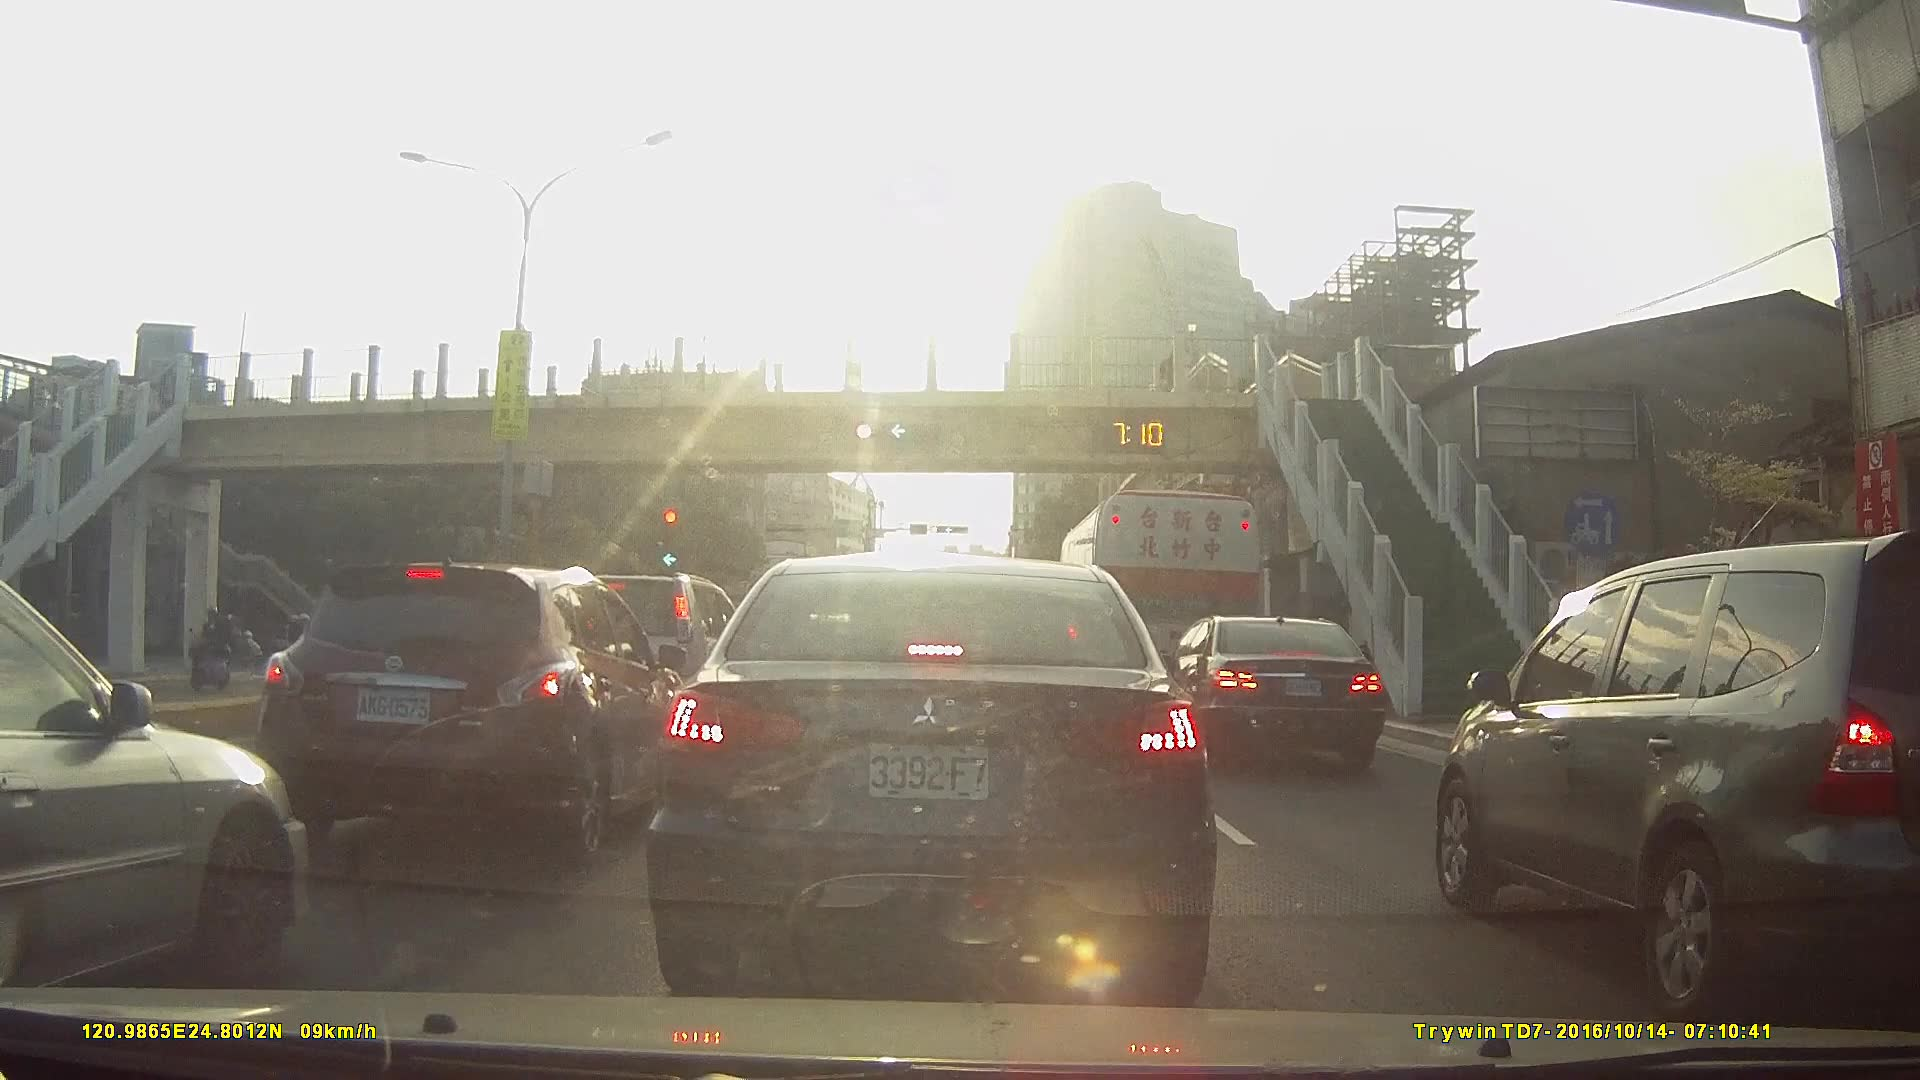pedestrian: (1158, 339, 1186, 395)
rider: (190, 601, 238, 689), (209, 613, 267, 669)
vehicle: (643, 552, 1218, 1004), (1427, 530, 1920, 1016), (253, 557, 694, 868), (0, 574, 312, 1004), (1056, 486, 1264, 729), (1151, 616, 1388, 771)
